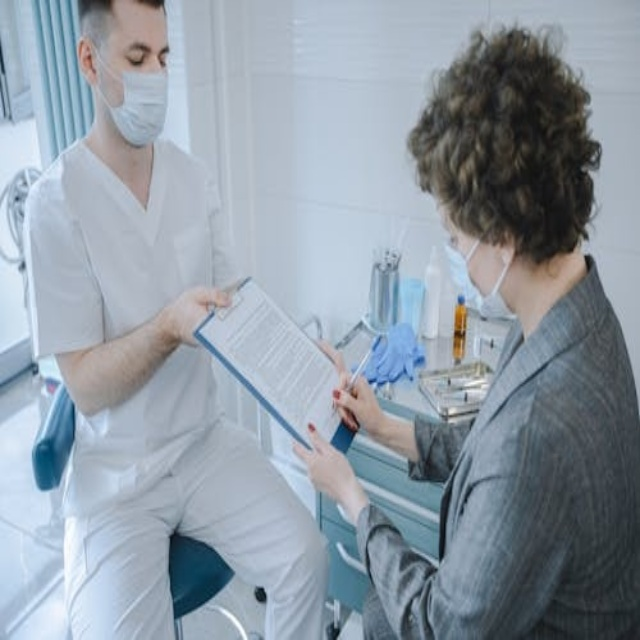Mascara: (92, 41, 168, 146), (443, 230, 510, 320)
Sin_gafas: (127, 50, 146, 65), (158, 46, 170, 65), (448, 233, 459, 248)
Sin_guantes: (290, 423, 364, 517), (325, 360, 386, 446)
